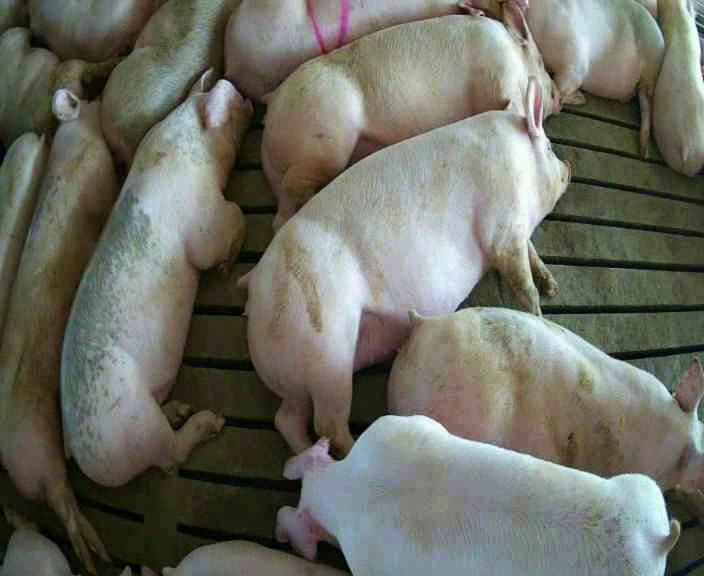pig: (248, 80, 569, 453), (61, 68, 251, 485), (278, 416, 678, 574), (390, 307, 703, 493), (0, 89, 117, 573), (225, 1, 484, 100), (101, 3, 235, 171), (0, 27, 118, 147), (0, 133, 47, 334), (654, 2, 703, 176), (30, 1, 160, 61)
